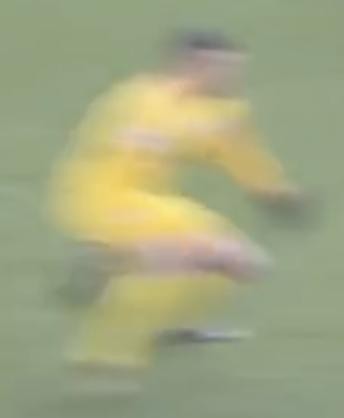goalkeeper: (25, 8, 317, 411)
